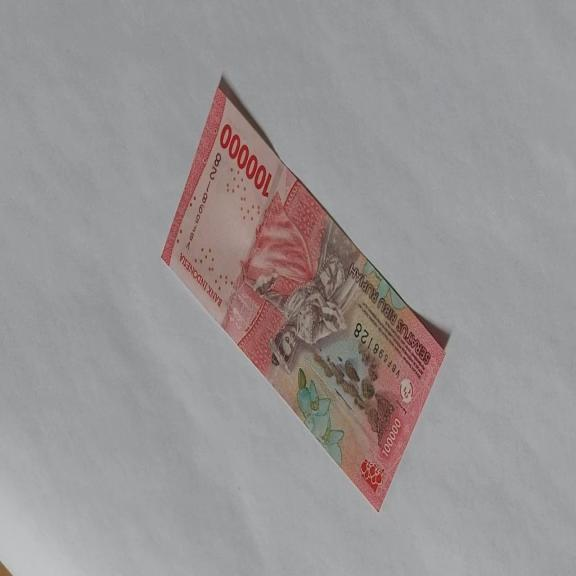Kertas: (161, 74, 447, 512), (219, 122, 273, 198)
